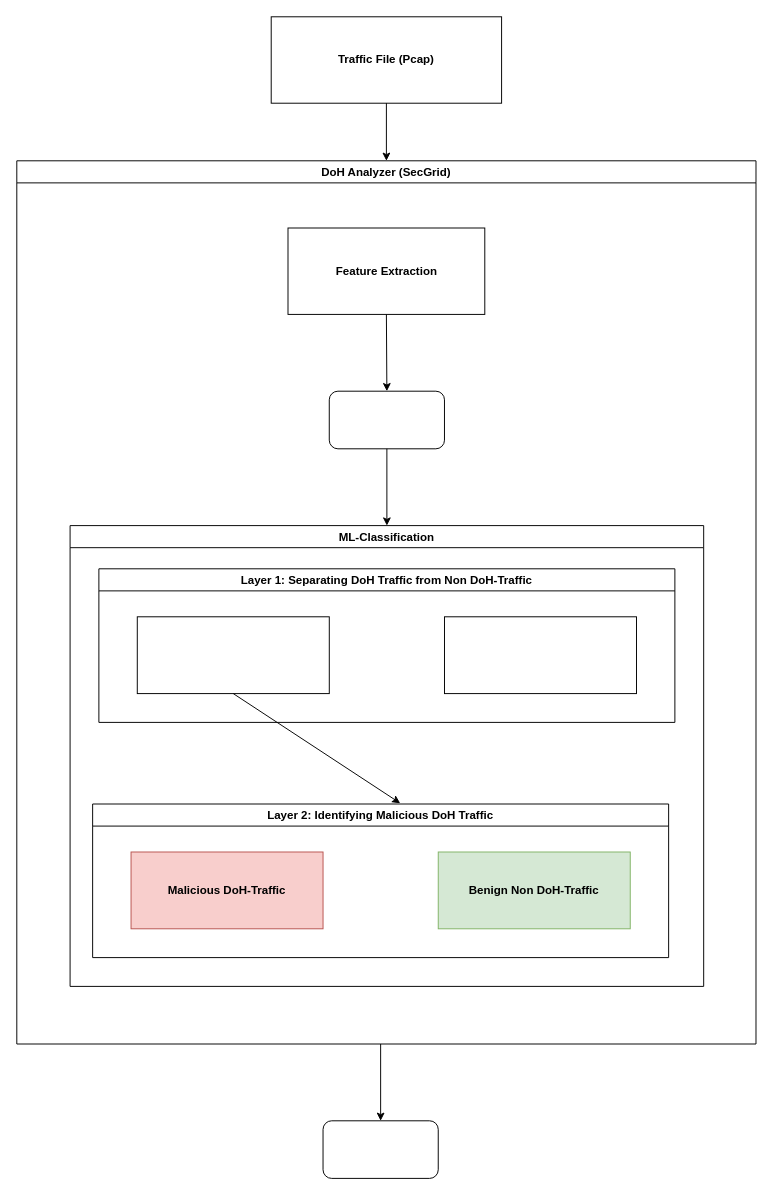
Image size: 773x1195. Some labels were removed from this diagram. The shapes that lost their labels are listed below. From the top down, each one's centre as x and y in pixels, then its label:
[386,419]: Extracted Features (.csv File)
[232,655]: DoH-Traffic
[540,655]: Non DoH-Traffic
[380,1149]: Classified Traffic (.csv File)
